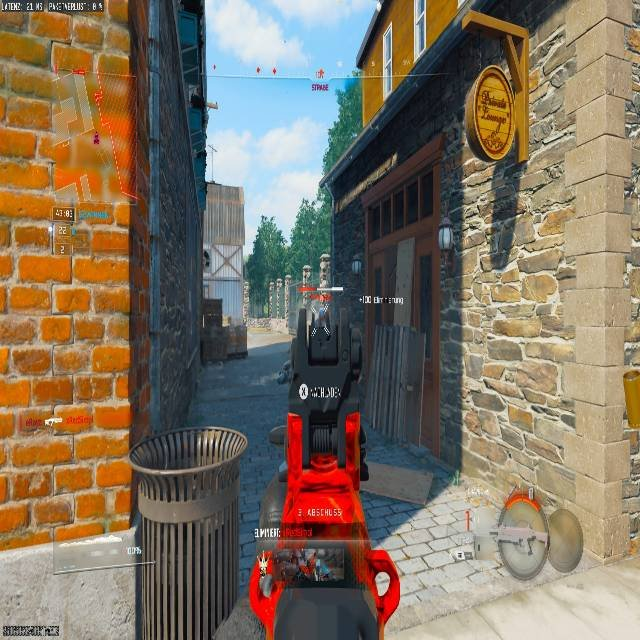player: (312, 305, 331, 342)
